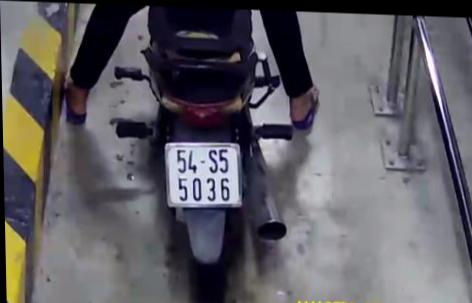LP: (162, 137, 243, 209)
